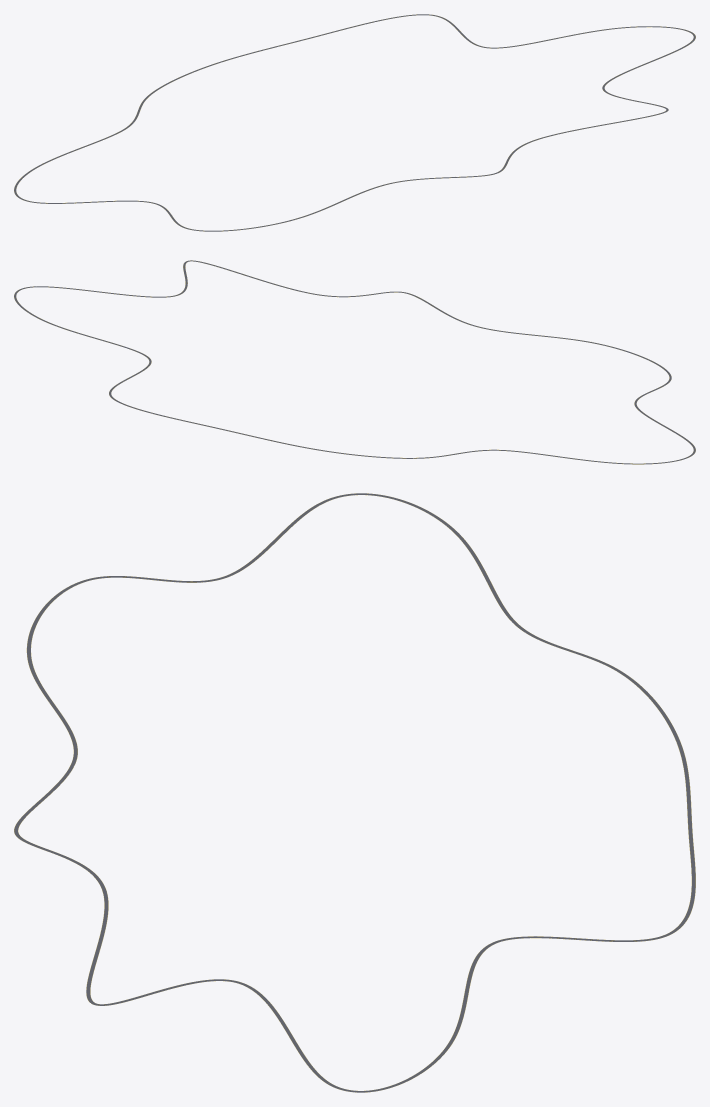
Rendered from Nexus_Outlaw_Highway.glb.
3 renders of one model, top to bottom at view 1: azimuth 30°, elevation 25°; view 2: azimuth 150°, elevation 25°; view 3: azimuth 270°, elevation 25°, orthographic. The views are drawn at different scales.
Parts seen in each view (by area): view 1: road_surface; view 2: road_surface; view 3: road_surface, outer_shoulder, inner_shoulder.
Boxes of the visible parts, box(x1,y1,x2,y2) form: road_surface: box(14, 14, 695, 231); road_surface: box(14, 260, 695, 464); road_surface: box(14, 493, 695, 1092); outer_shoulder: box(18, 495, 691, 1090); inner_shoulder: box(14, 493, 695, 1092).
Size of the model in its own units: 16306 by 21.12 by 7843.
